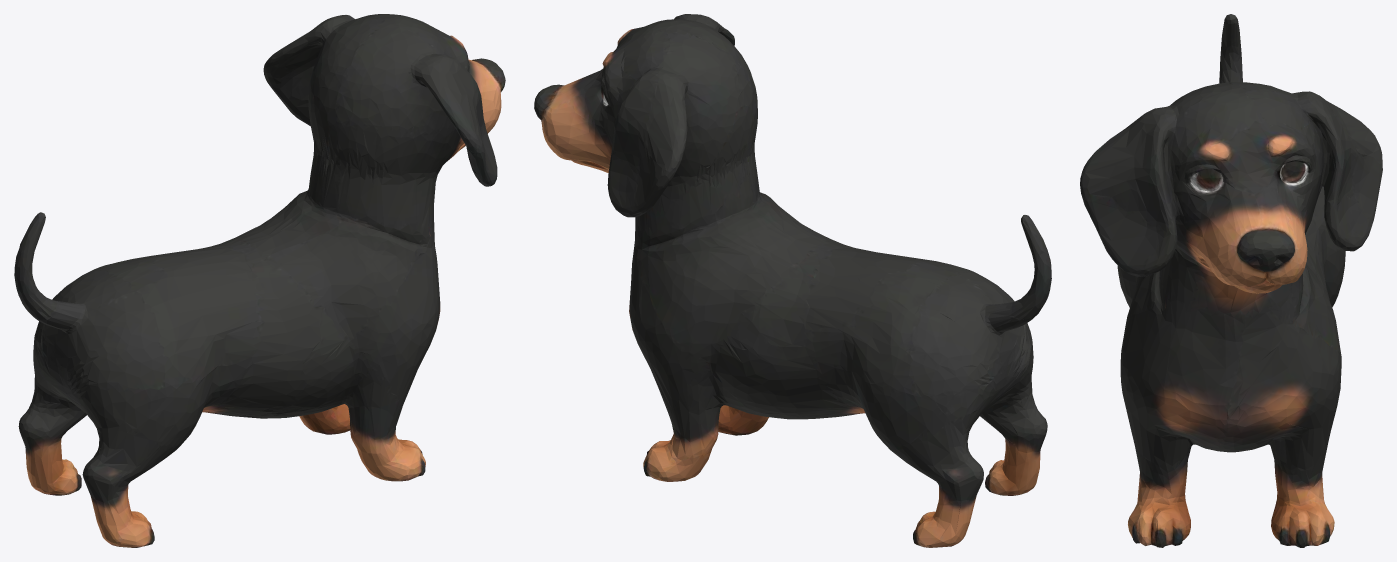
The model's file is maisydog.glb.
3 views of the same model, side by side, from view 1: azimuth 30°, elevation 25°; view 2: azimuth 150°, elevation 25°; view 3: azimuth 270°, elevation 25° (orthographic). The views are drawn at different scales.
Parts seen in each view (by area): view 1: tripo_node_29d870b0_tripo_mat_29d870b0_0; view 2: tripo_node_29d870b0_tripo_mat_29d870b0_0; view 3: tripo_node_29d870b0_tripo_mat_29d870b0_0.
Boxes of the visible parts, box(x1,y1,x2,y2) form: tripo_node_29d870b0_tripo_mat_29d870b0_0: box(14, 14, 505, 547); tripo_node_29d870b0_tripo_mat_29d870b0_0: box(534, 14, 1051, 547); tripo_node_29d870b0_tripo_mat_29d870b0_0: box(1080, 14, 1382, 547).
Size of the model in its own units: 0.9994 by 0.7992 by 0.4753.
Materials: 1 (1 with a texture image).
